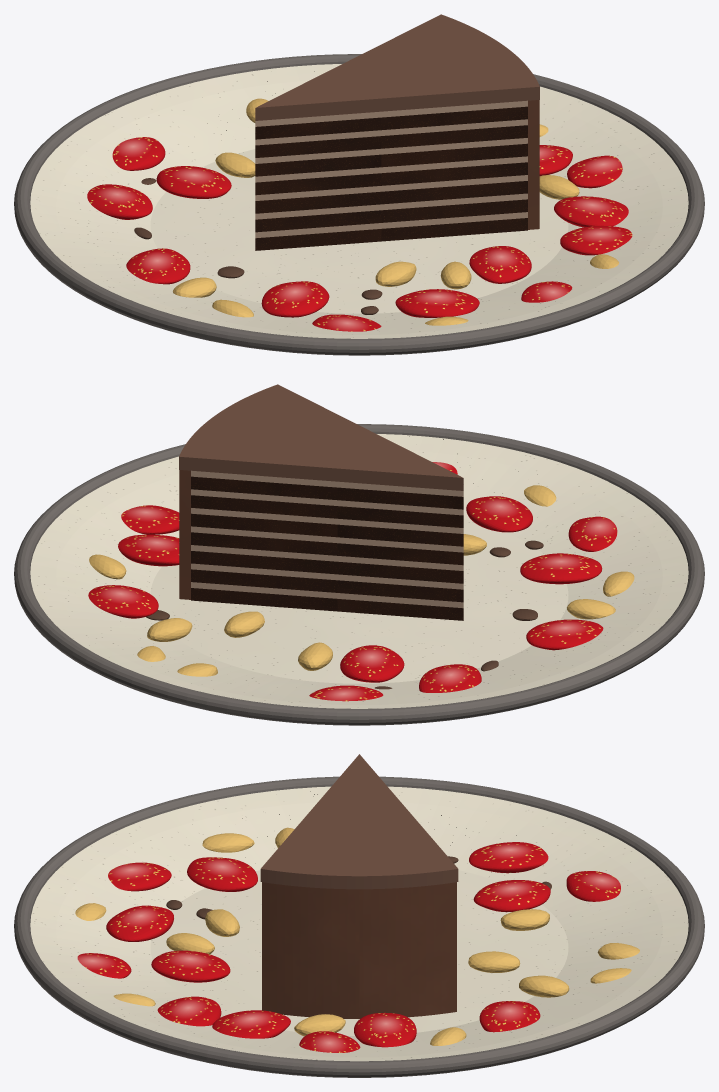
File: almond_praline_strawberry_dark_chocolate_cake.glb
The picture shows the model from 3 angles, top to bottom: view 1: azimuth 30°, elevation 25°; view 2: azimuth 150°, elevation 25°; view 3: azimuth 270°, elevation 25°; orthographic projection.
Visible parts, largest first — view 1: almond_praline_strawberry_dark_chocolate_cake__plate_1, almond_praline_strawberry_dark_chocolate_cake__sponge_3, almond_praline_strawberry_dark_chocolate_cake__plate_rim_2, almond_praline_strawberry_dark_chocolate_cake__strawberries_, almond_praline_strawberry_dark_chocolate_cake__glaze_6, almond_praline_strawberry_dark_chocolate_cake__filling_4, almond_praline_strawberry_dark_chocolate_cake__caramelized_n, almond_praline_strawberry_dark_chocolate_cake__mousse_5, almond_praline_strawberry_dark_chocolate_cake__choc_drops_9; view 2: almond_praline_strawberry_dark_chocolate_cake__plate_1, almond_praline_strawberry_dark_chocolate_cake__sponge_3, almond_praline_strawberry_dark_chocolate_cake__plate_rim_2, almond_praline_strawberry_dark_chocolate_cake__strawberries_, almond_praline_strawberry_dark_chocolate_cake__glaze_6, almond_praline_strawberry_dark_chocolate_cake__filling_4, almond_praline_strawberry_dark_chocolate_cake__caramelized_n, almond_praline_strawberry_dark_chocolate_cake__mousse_5, almond_praline_strawberry_dark_chocolate_cake__choc_drops_9; view 3: almond_praline_strawberry_dark_chocolate_cake__plate_1, almond_praline_strawberry_dark_chocolate_cake__mousse_5, almond_praline_strawberry_dark_chocolate_cake__plate_rim_2, almond_praline_strawberry_dark_chocolate_cake__strawberries_, almond_praline_strawberry_dark_chocolate_cake__glaze_6, almond_praline_strawberry_dark_chocolate_cake__caramelized_n.
Boxes of the visible parts, <box> form: almond_praline_strawberry_dark_chocolate_cake__plate_1: <box>30,64,688,338</box>; almond_praline_strawberry_dark_chocolate_cake__sponge_3: <box>255,106,527,250</box>; almond_praline_strawberry_dark_chocolate_cake__plate_rim_2: <box>14,54,704,355</box>; almond_praline_strawberry_dark_chocolate_cake__strawberries_: <box>87,137,632,331</box>; almond_praline_strawberry_dark_chocolate_cake__glaze_6: <box>255,14,539,120</box>; almond_praline_strawberry_dark_chocolate_cake__filling_4: <box>255,100,527,238</box>; almond_praline_strawberry_dark_chocolate_cake__caramelized_n: <box>173,98,618,325</box>; almond_praline_strawberry_dark_chocolate_cake__mousse_5: <box>528,100,539,229</box>; almond_praline_strawberry_dark_chocolate_cake__choc_drops_9: <box>134,178,382,314</box>; almond_praline_strawberry_dark_chocolate_cake__plate_1: <box>30,434,688,708</box>; almond_praline_strawberry_dark_chocolate_cake__sponge_3: <box>191,476,463,620</box>; almond_praline_strawberry_dark_chocolate_cake__plate_rim_2: <box>14,424,704,725</box>; almond_praline_strawberry_dark_chocolate_cake__strawberries_: <box>88,462,617,701</box>; almond_praline_strawberry_dark_chocolate_cake__glaze_6: <box>179,384,463,490</box>; almond_praline_strawberry_dark_chocolate_cake__filling_4: <box>191,470,463,608</box>; almond_praline_strawberry_dark_chocolate_cake__caramelized_n: <box>89,485,634,676</box>; almond_praline_strawberry_dark_chocolate_cake__mousse_5: <box>179,470,190,599</box>; almond_praline_strawberry_dark_chocolate_cake__choc_drops_9: <box>146,540,543,689</box>; almond_praline_strawberry_dark_chocolate_cake__plate_1: <box>30,786,688,1061</box>; almond_praline_strawberry_dark_chocolate_cake__mousse_5: <box>262,882,456,1018</box>; almond_praline_strawberry_dark_chocolate_cake__plate_rim_2: <box>14,776,704,1077</box>; almond_praline_strawberry_dark_chocolate_cake__strawberries_: <box>77,842,620,1052</box>; almond_praline_strawberry_dark_chocolate_cake__glaze_6: <box>260,754,458,889</box>; almond_praline_strawberry_dark_chocolate_cake__caramelized_n: <box>75,827,639,1045</box>.
Bounding box in the file's own units: 0.287 × 0.0735 × 0.287.
9 materials, 4 textured.
